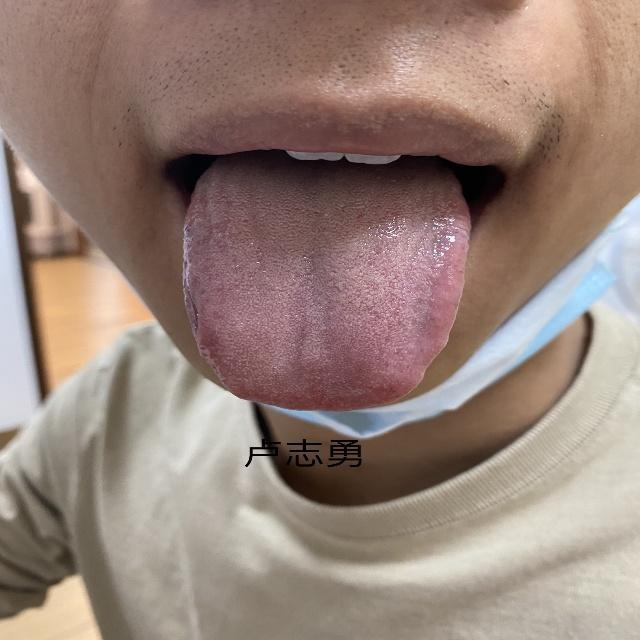baitaishe: (180, 165, 470, 411)
